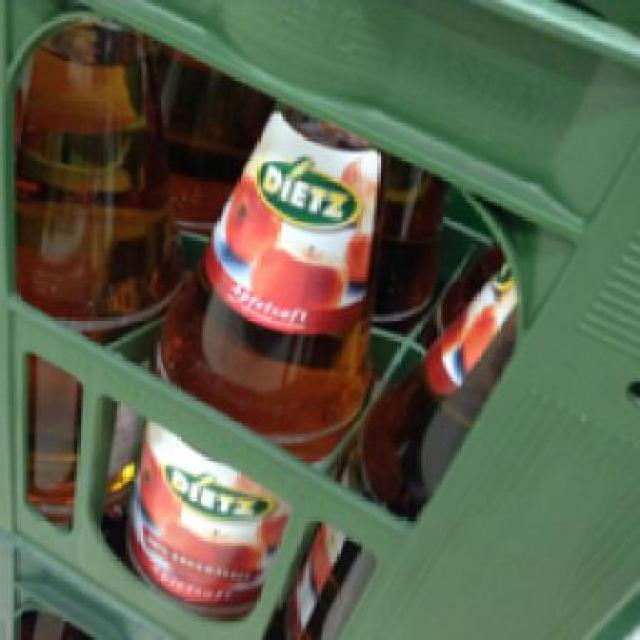Juice: (128, 85, 374, 618), (12, 14, 180, 532)
